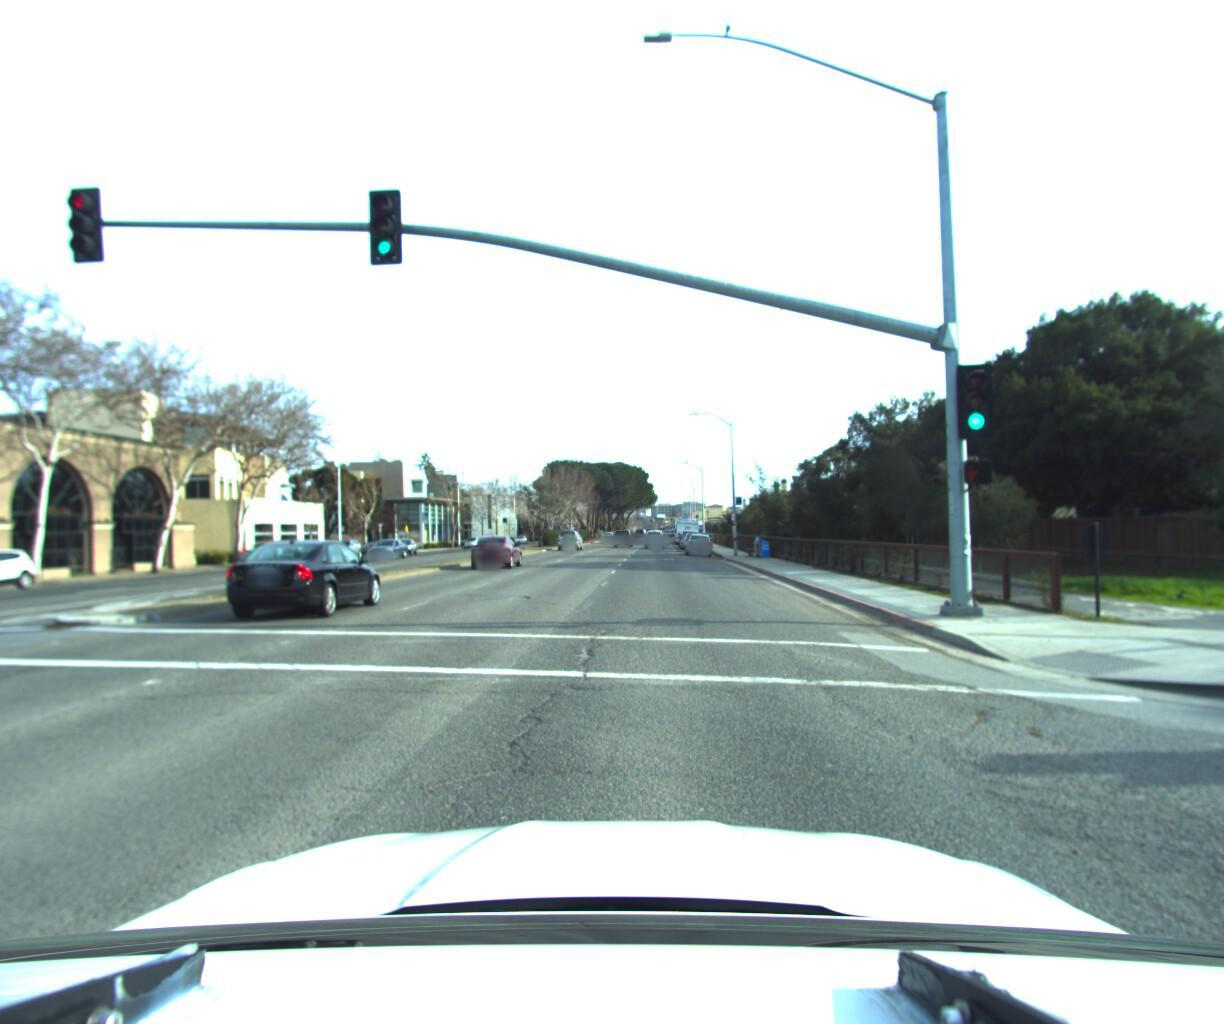car: (219, 536, 390, 627), (238, 539, 304, 570), (469, 530, 524, 567), (358, 536, 411, 561), (688, 527, 716, 552), (684, 530, 712, 555), (556, 528, 585, 550), (645, 527, 667, 547), (614, 527, 635, 546)
